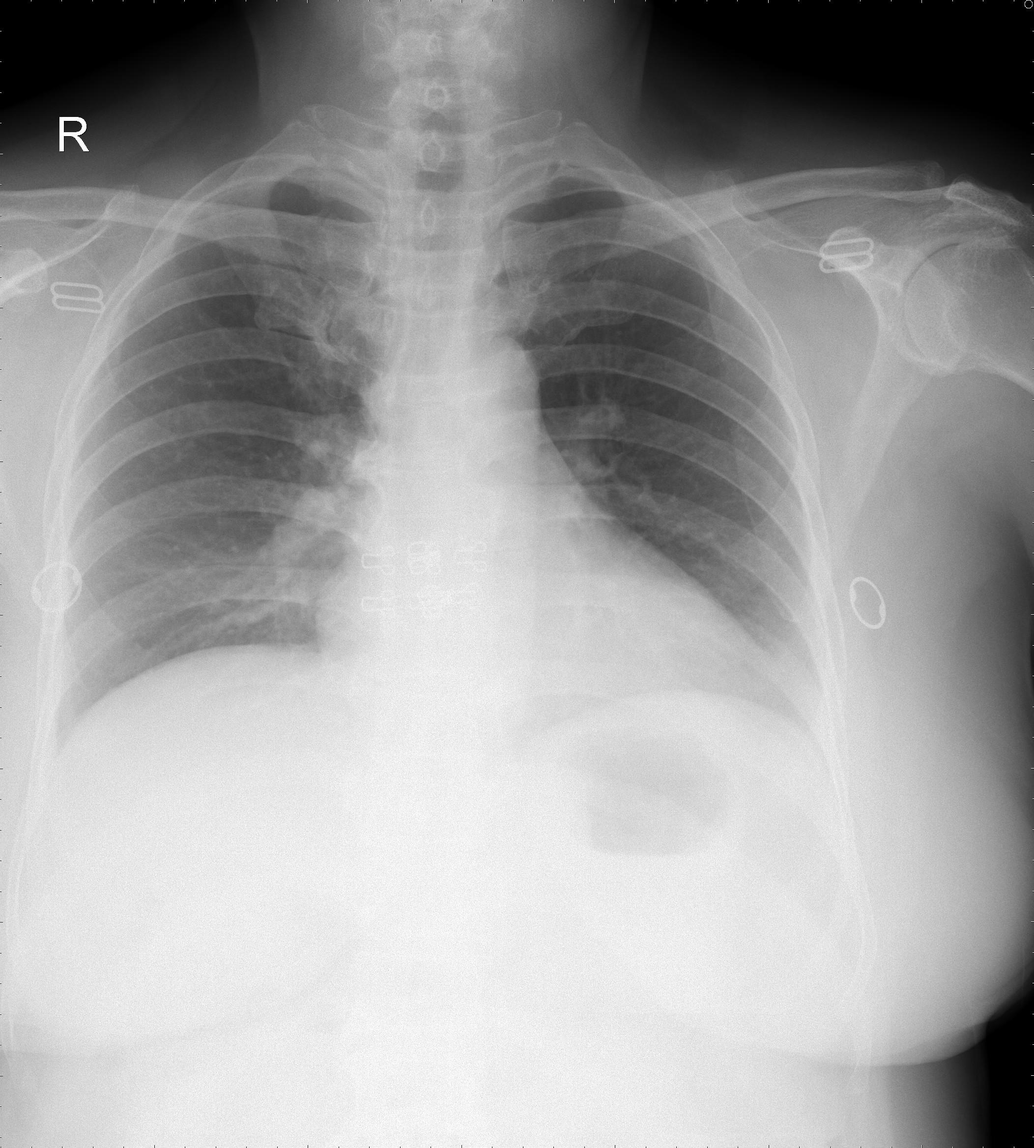Cardiomegaly: (308, 589, 767, 710)
